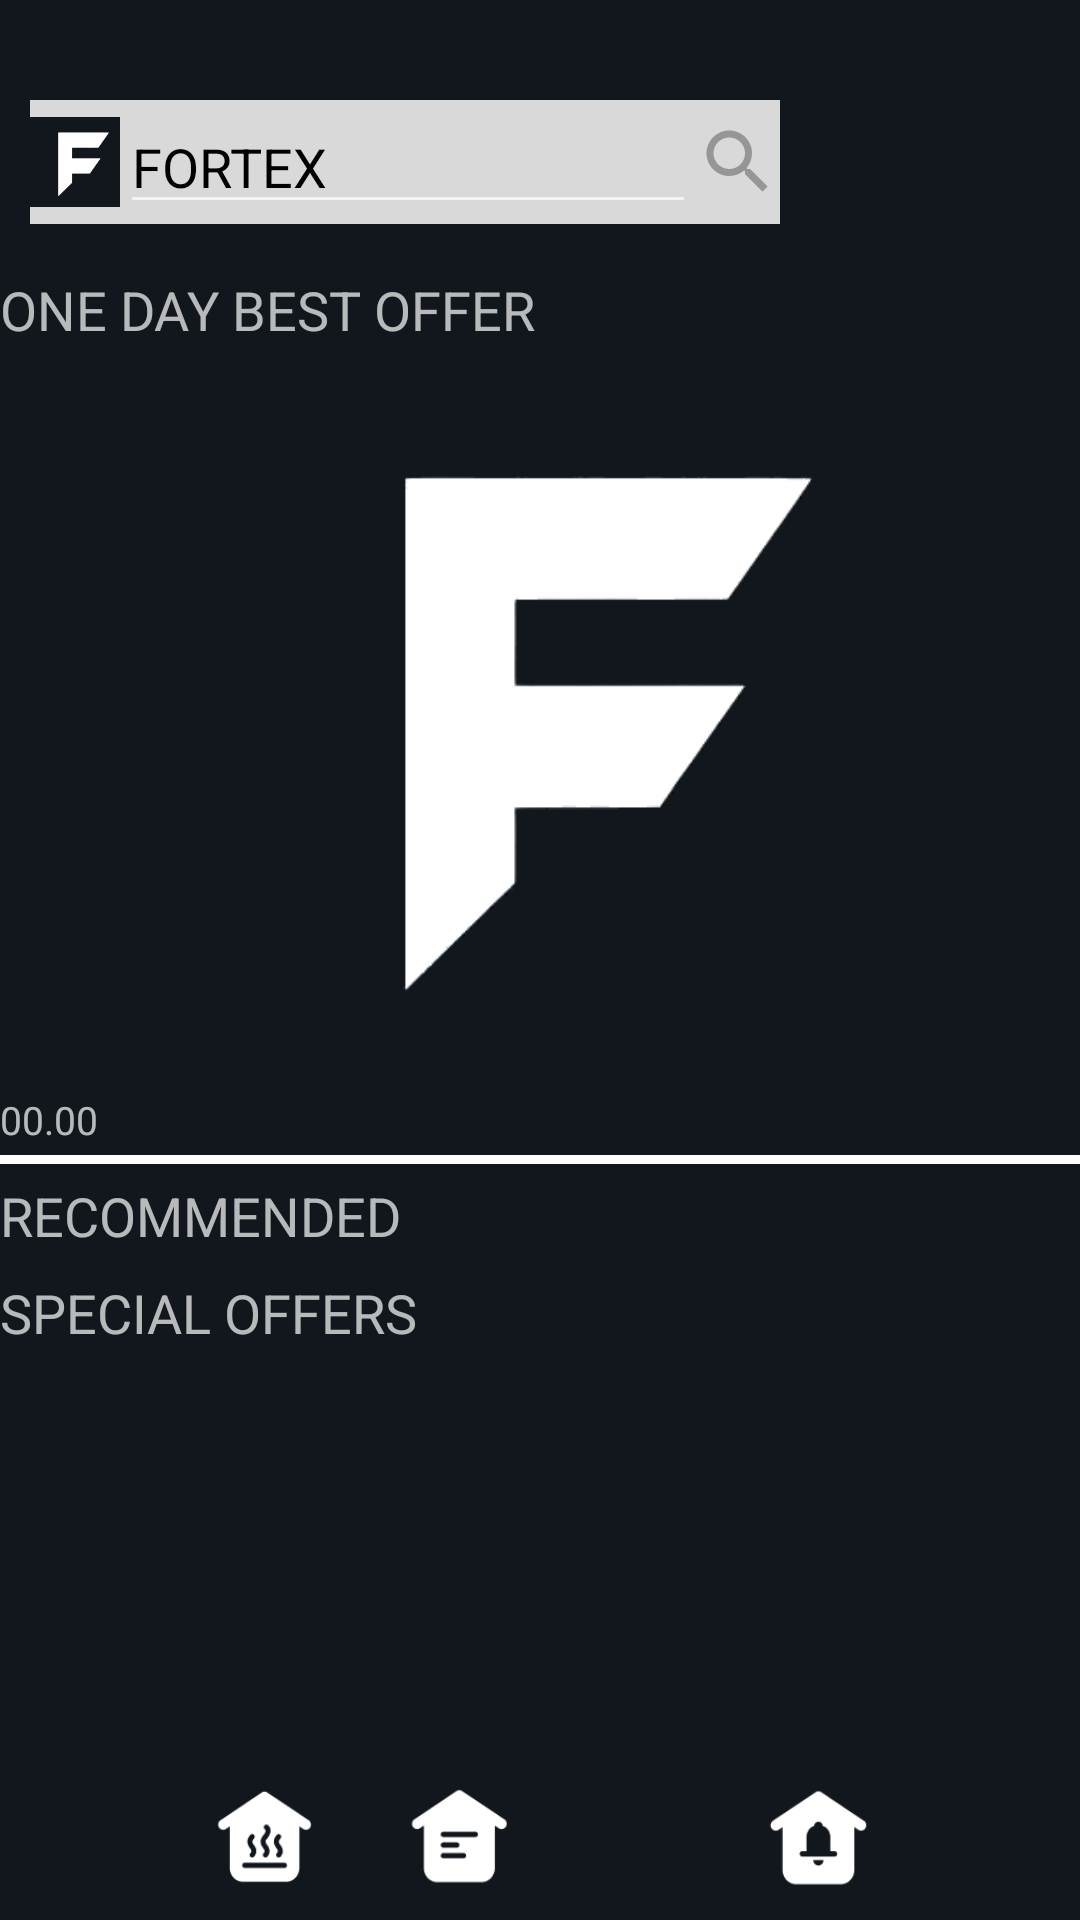

Screen size 1080x1920. Icon name, then its center in pixels as point (x, y):
home: point (264, 1836)
news: point (459, 1836)
notification: point (818, 1838)
search: point (737, 161)
